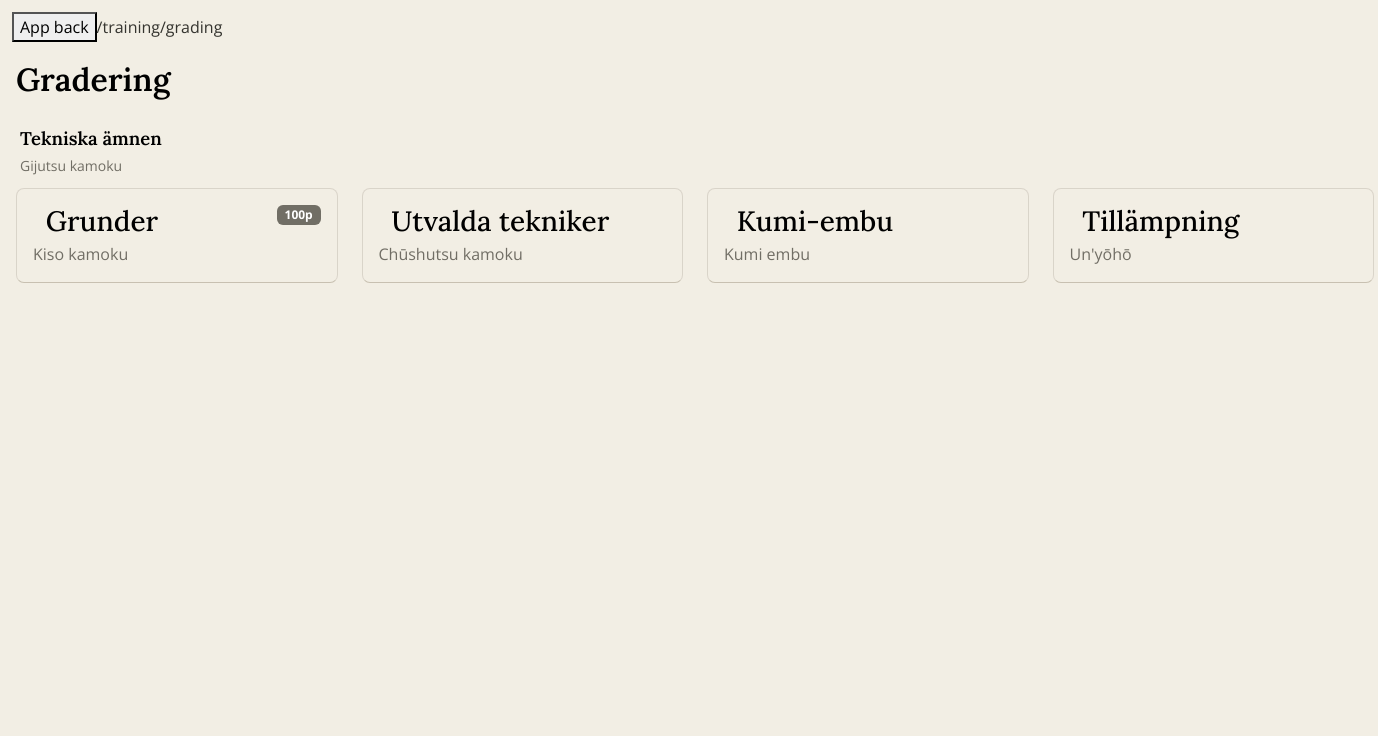
GradingTest subject split › groups fundamentals into a clean outline without dropping their techniques
The width and height of the screenshot is (1378, 736).
Click the button "Grunder 100p Kiso kamoku": (102, 221) [16,188,338,283]
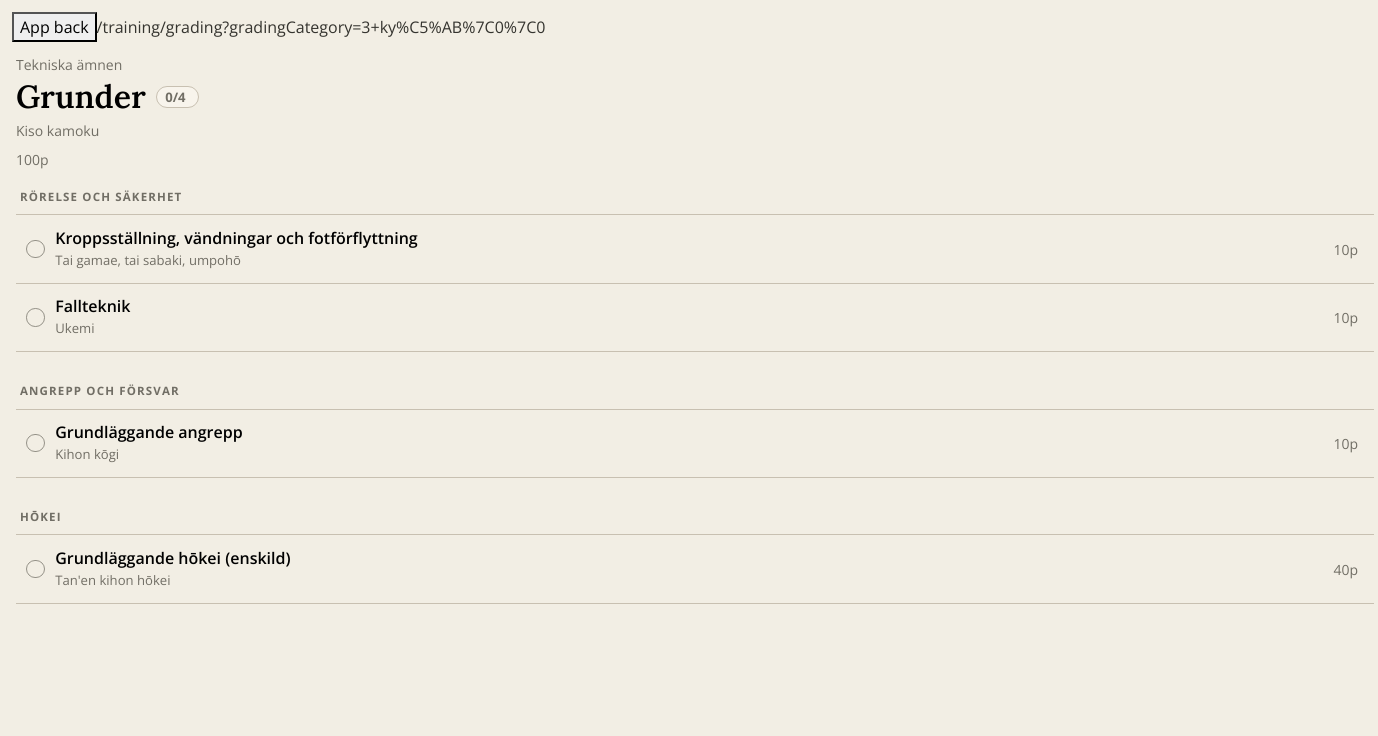
Result: the element named "0 av 4 delar klarmarkerade" is shown at [156,86,199,108]
Result: the heading "Rörelse och säkerhet" is shown at [20,189,182,204]
Result: the heading "Angrepp och försvar" is shown at [20,383,180,398]
Click the button "Kroppsställning, vändningar och fotförflyttning": (236, 238) [55,215,1374,283]
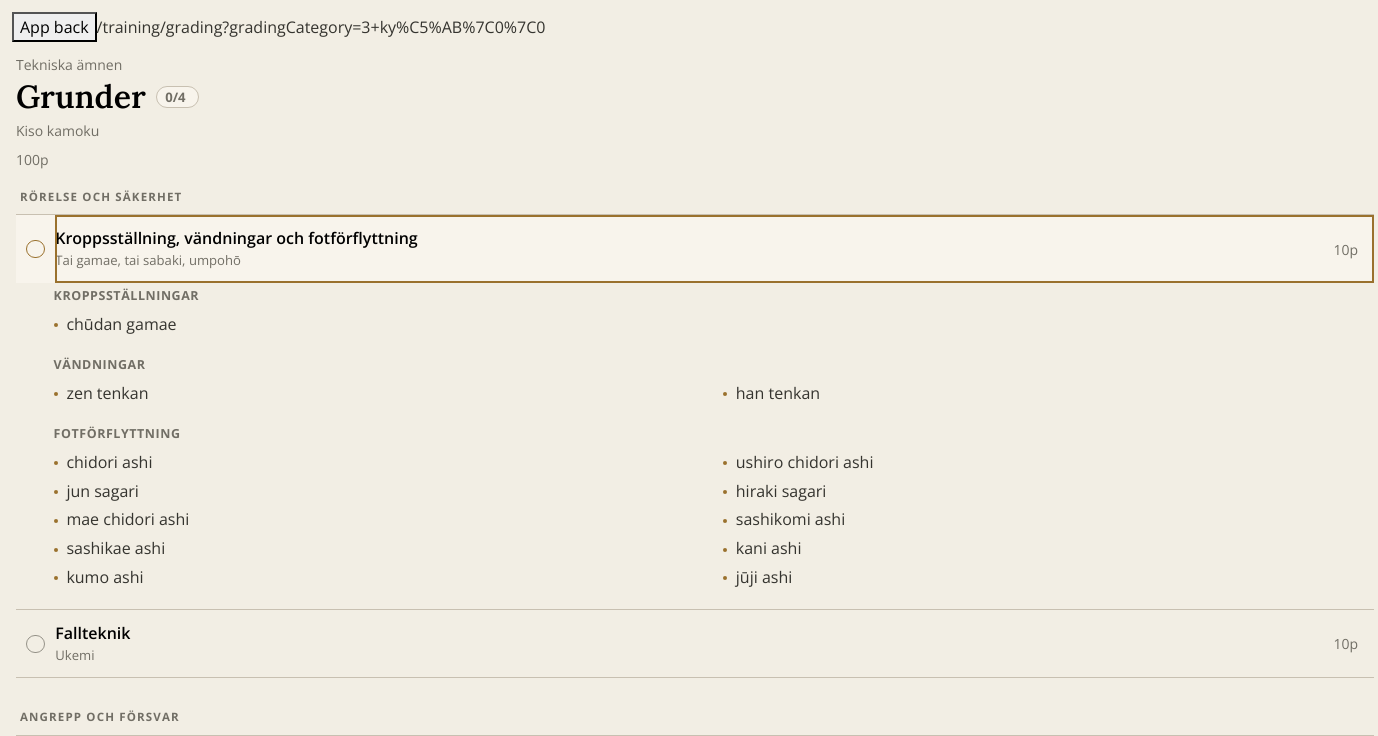
Result: the text "Kroppsställningar" is shown at [54,287,199,304]
Result: the text "Vändningar" is shown at [54,356,146,373]
Result: the text "Fotförflyttning" is shown at [54,425,181,442]
